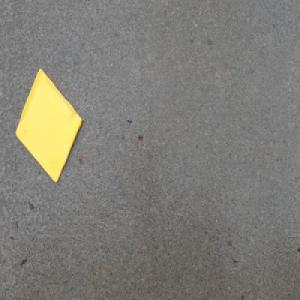PlasticPart: (14, 65, 83, 183)
